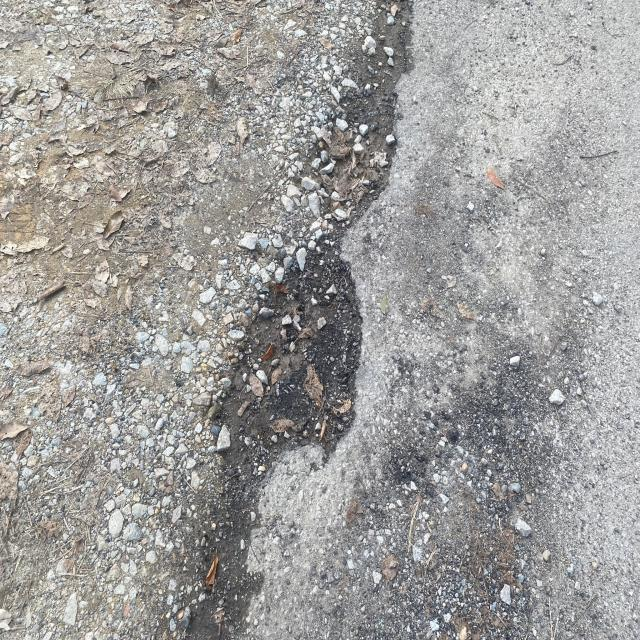Pothole: (221, 156, 460, 634)
